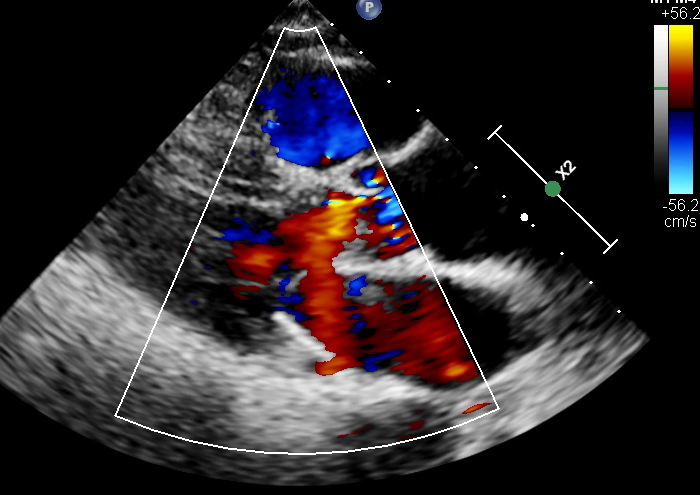AR: (318, 178, 385, 255)
